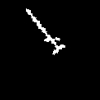double_crochet: (26, 9, 64, 53)
